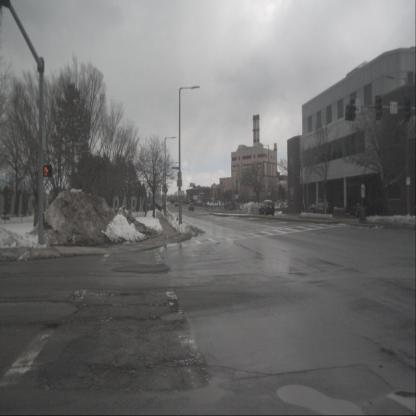vehicle-car: (309, 198, 334, 215), (350, 199, 369, 217), (258, 200, 275, 216), (188, 202, 194, 211)
